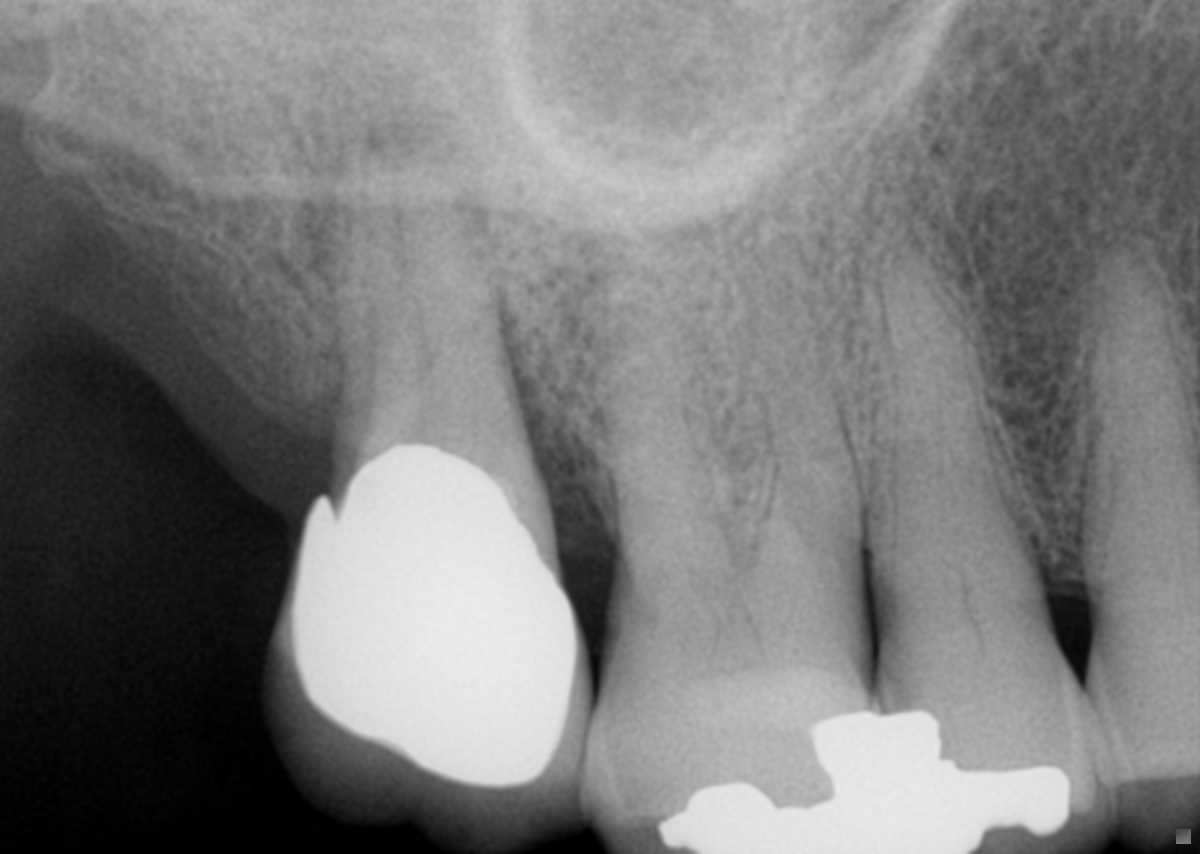Apical Lesion: (548, 293, 652, 420), (365, 99, 497, 188)
Distal Root: (593, 334, 737, 577)
Main Root: (360, 144, 553, 501), (868, 249, 1033, 571), (1080, 246, 1200, 591)
Mesial Root: (744, 297, 859, 577)
Palatal Root: (606, 189, 820, 605)
